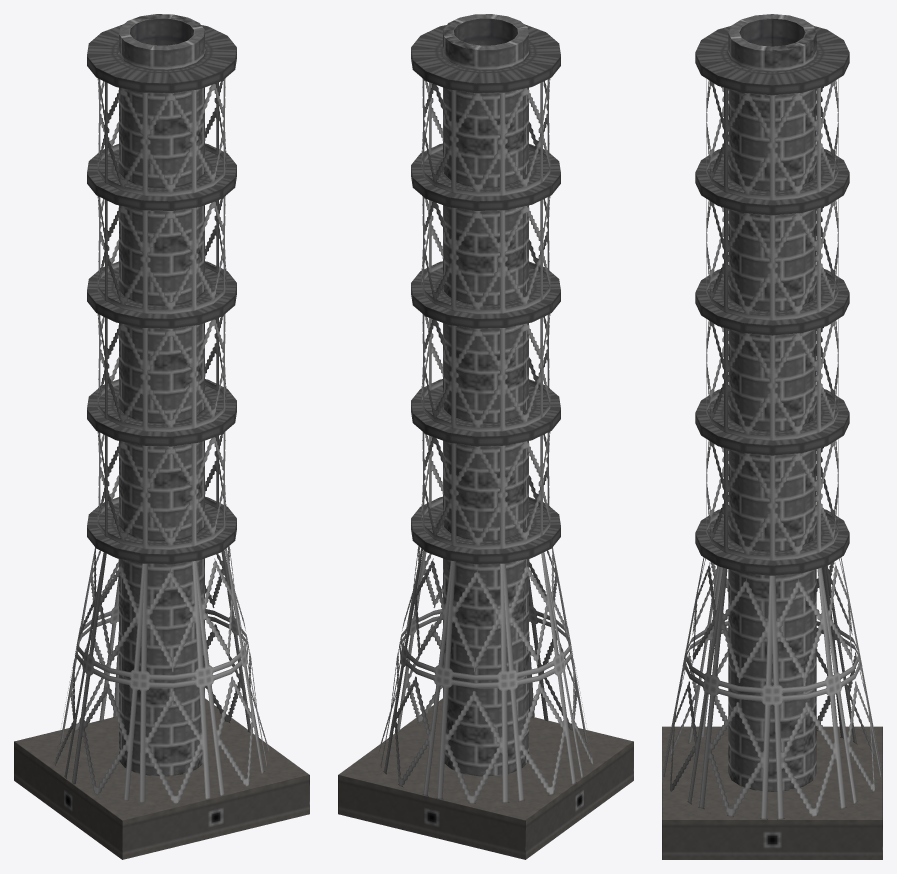
The model's file is tower_small.obj.
3 views of the same model, side by side, from view 1: azimuth 30°, elevation 25°; view 2: azimuth 150°, elevation 25°; view 3: azimuth 270°, elevation 25° (orthographic). The views are drawn at different scales.
Parts seen in each view (by area): view 1: Cube_Cube.001; view 2: Cube_Cube.001; view 3: Cube_Cube.001.
Part boxes in pixels (x1,y1,x2,y2): Cube_Cube.001: (14, 14, 309, 859); Cube_Cube.001: (338, 14, 633, 859); Cube_Cube.001: (662, 14, 882, 859).
Bounding box in the file's own units: 5 × 19.5 × 5.
